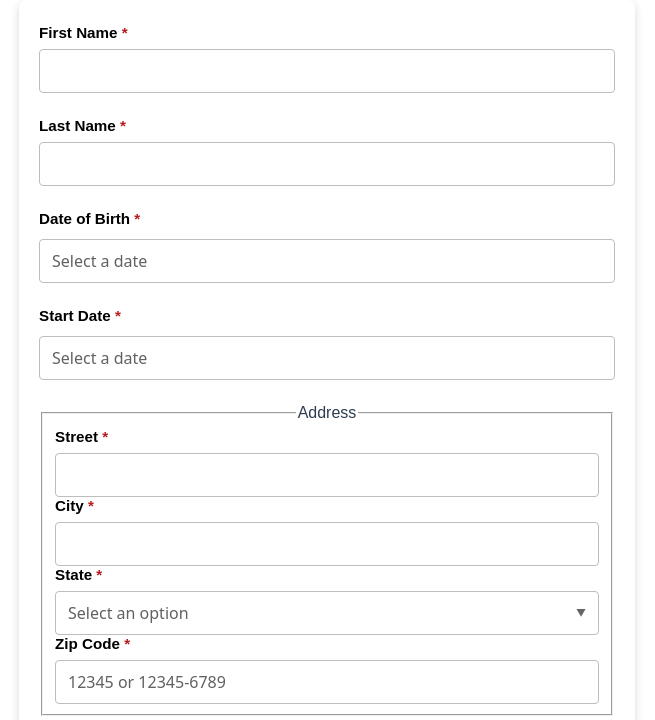
Test: EmployeeForm › Form Validation › shows error for invalid zip code format
This screenshot has width=655, height=720.
In the field with test id "input-zipCode": (327, 682) [55,660,599,704], type "1234"
(page scrolled)
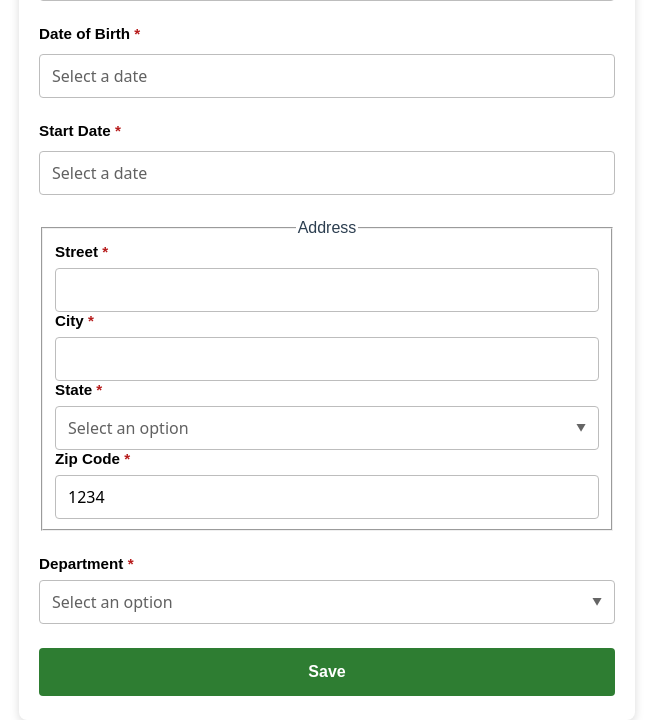
Click the button with test id "button-save": (327, 672) [39,648,615,696]
(page scrolled)
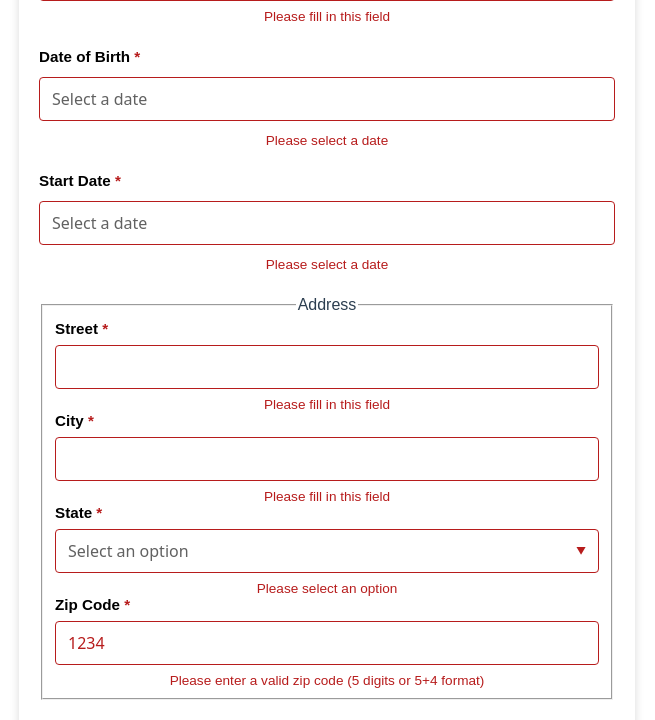
expect the text "Please enter a valid zip code (5 digits or 5+4 format)" is shown: met, box [170,673,484,688]
